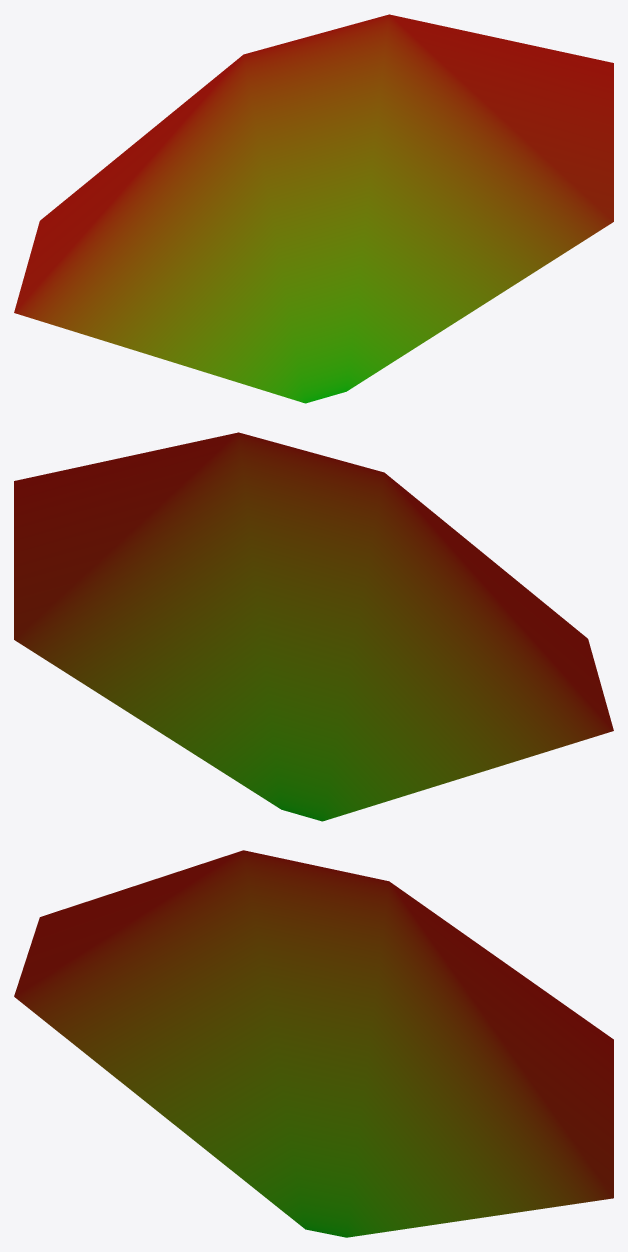
The model's file is Purple Ornamental Kale_LOD6_Var6_ugdieawja.fbx.
3 renders of one model, top to bottom at view 1: azimuth 30°, elevation 25°; view 2: azimuth 150°, elevation 25°; view 3: azimuth 330°, elevation 25°, orthographic.
Parts seen in each view (by area): view 1: _5e1b_Var6_LOD6; view 2: _5e1b_Var6_LOD6; view 3: _5e1b_Var6_LOD6.
Boxes of the visible parts, <box> form: _5e1b_Var6_LOD6: <box>14,14,613,403</box>; _5e1b_Var6_LOD6: <box>14,432,613,821</box>; _5e1b_Var6_LOD6: <box>14,850,613,1237</box>.
Bounding box in the file's own units: 40.68 × 23.89 × 4.77e-07.
